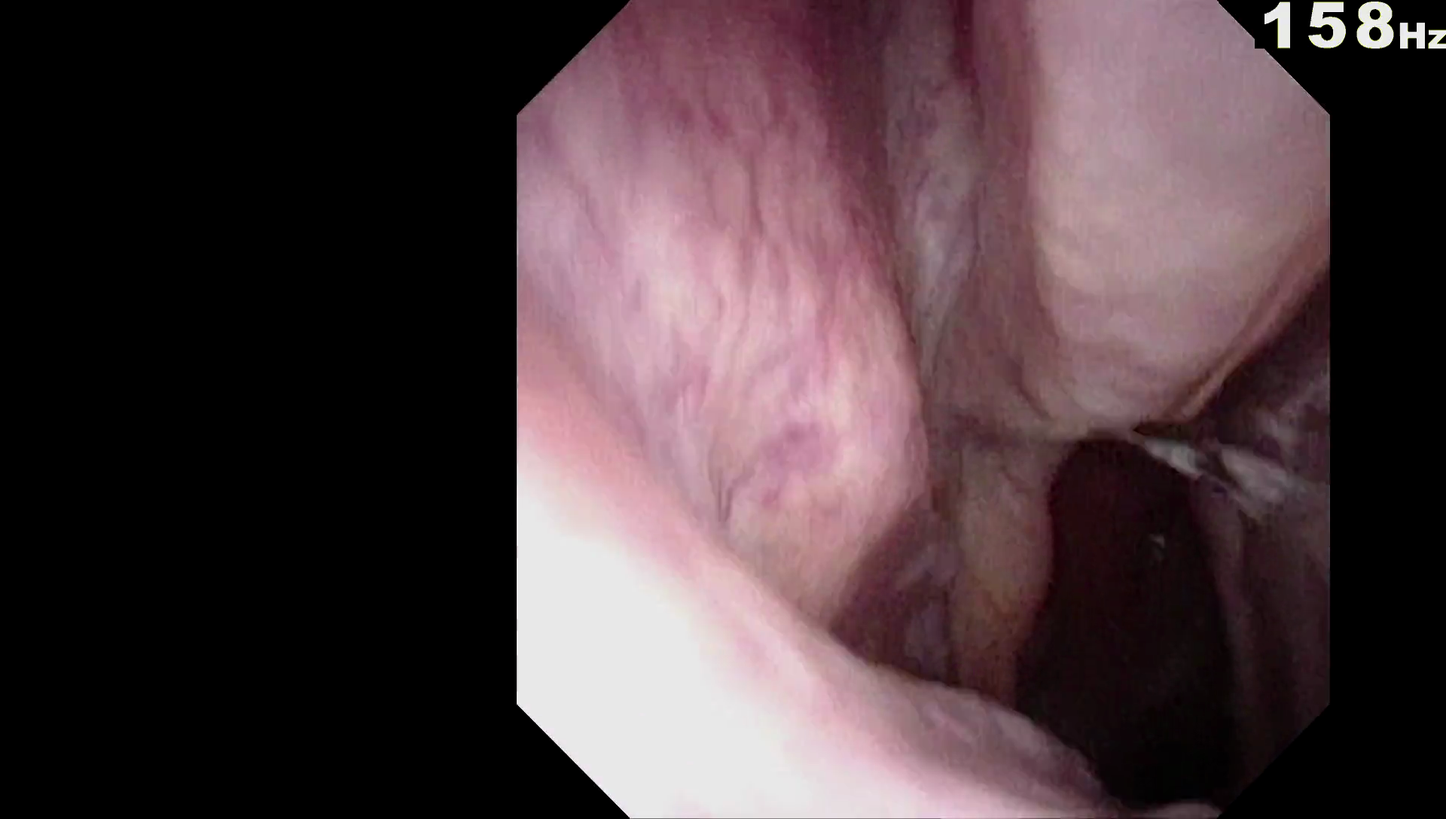close_wall: (530, 446, 915, 819)
next: (1022, 404, 1272, 805)
